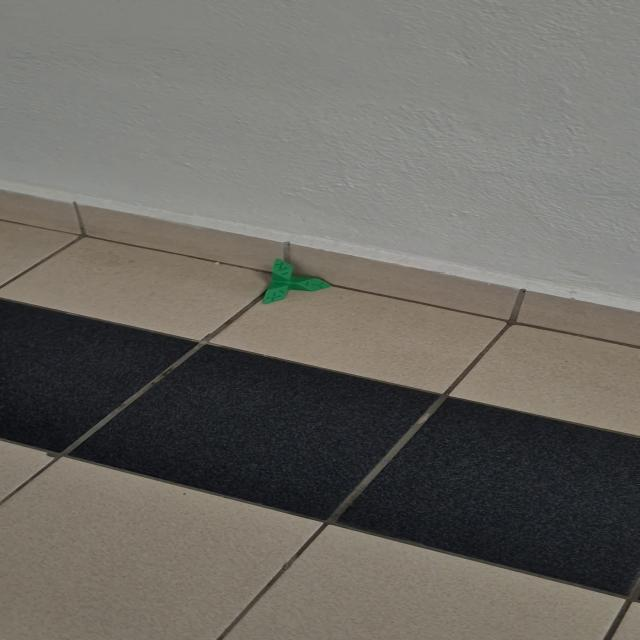objects: (261, 257, 332, 305)
